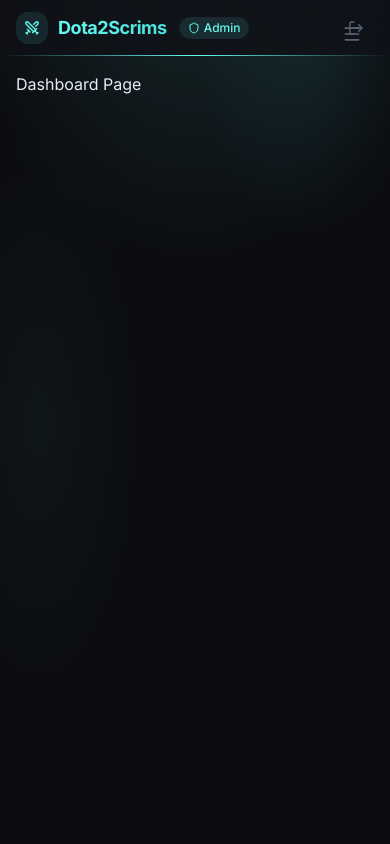
AdminLayout › mobile drawer › closes drawer when backdrop is clicked
Click the button named "menu": [352, 34] box top-left (330, 12), bottom-right (374, 56)
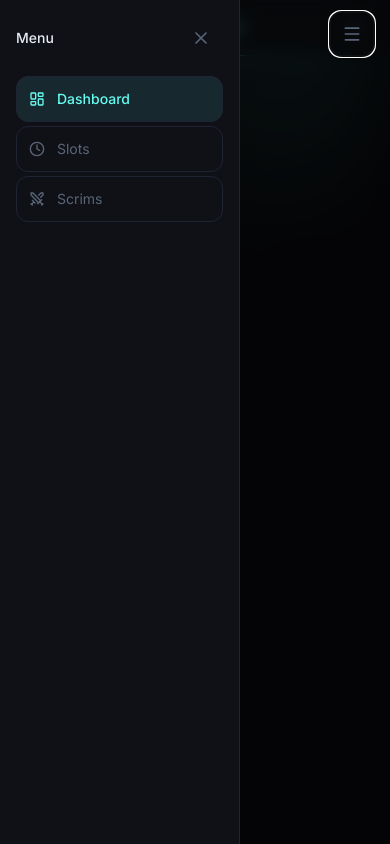
Expected: the element with test id "mobile-drawer" is shown
Click the element with test id "drawer-backdrop": [367, 422] box top-left (0, 0), bottom-right (389, 843)
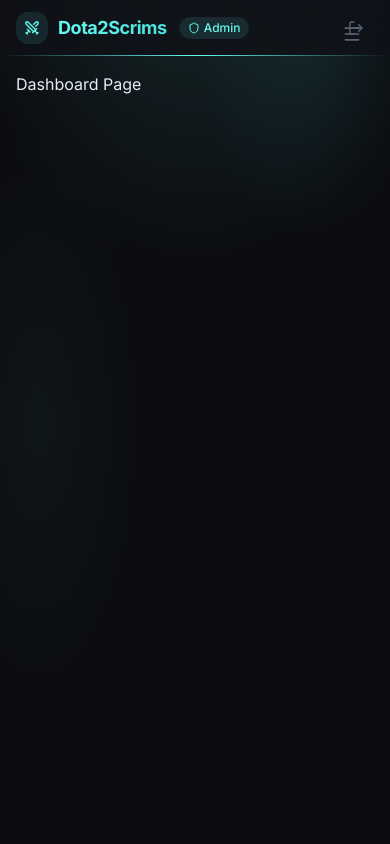
Expected: the element with test id "mobile-drawer" is gone
